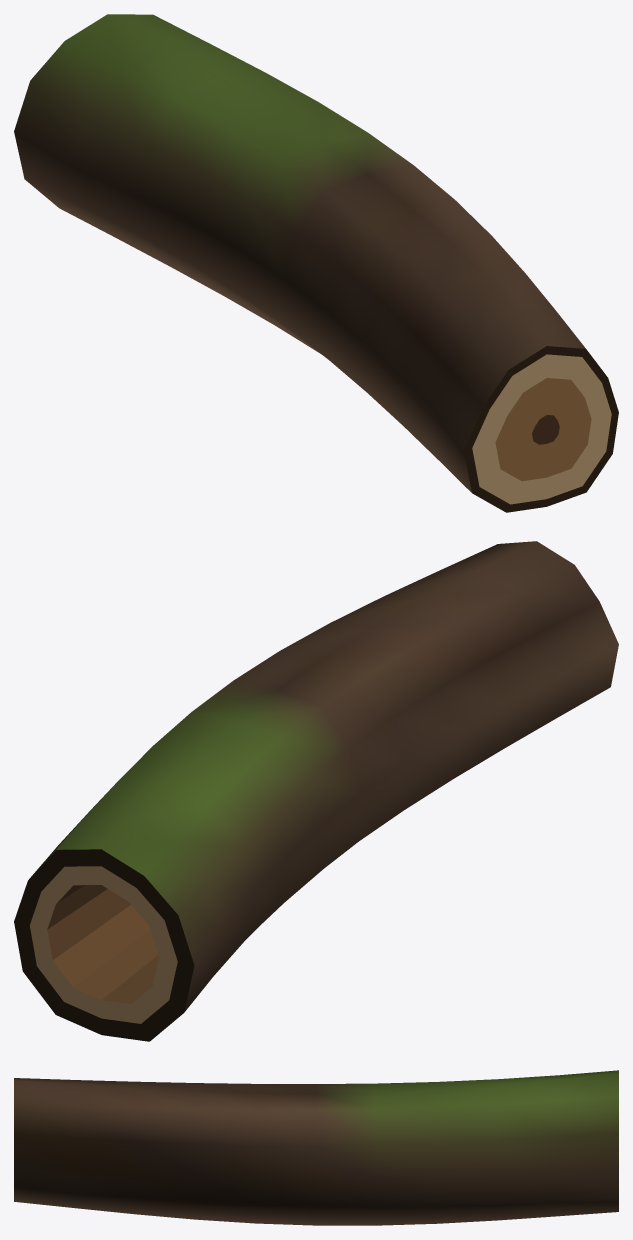
The model's file is log-fallen-c.glb.
3 views of the same model, one above another, from view 1: azimuth 30°, elevation 25°; view 2: azimuth 150°, elevation 25°; view 3: azimuth 270°, elevation 25° (orthographic). The views are drawn at different scales.
Parts seen in each view (by area): view 1: log-fallen-c; view 2: log-fallen-c; view 3: log-fallen-c.
Part boxes in pixels (x1,y1,x2,y2): log-fallen-c: (14, 14, 618, 512); log-fallen-c: (14, 541, 618, 1041); log-fallen-c: (14, 1070, 618, 1225).
Bounding box in the file's own units: 0.2106 × 0.1743 × 0.74.
